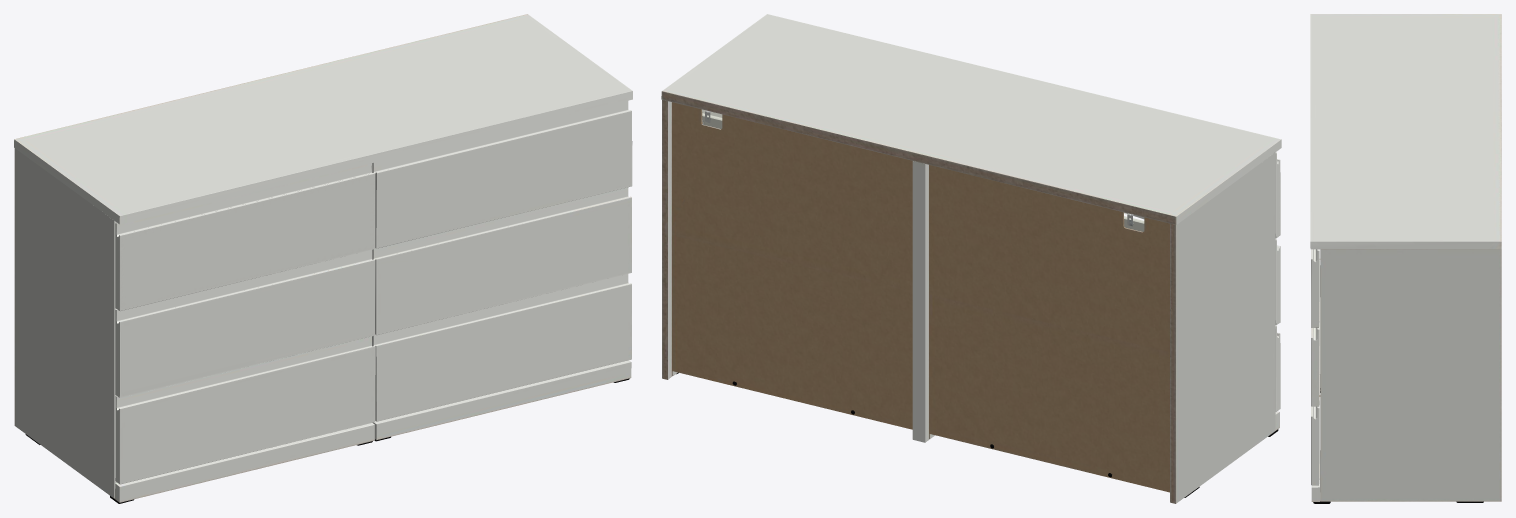
File: storklinta_komoda_6_szuflad_70627550.glb
The picture shows the model from 3 angles, left to right: view 1: azimuth 30°, elevation 25°; view 2: azimuth 150°, elevation 25°; view 3: azimuth 270°, elevation 25°; orthographic projection. The views are drawn at different scales.
Visible parts, largest first — view 1: storklinta_komoda_6_szuflad_70627550; view 2: storklinta_komoda_6_szuflad_70627550; view 3: storklinta_komoda_6_szuflad_70627550.
Boxes of the visible parts, x1,y1,x2,y2 form: storklinta_komoda_6_szuflad_70627550: [14, 14, 632, 503]; storklinta_komoda_6_szuflad_70627550: [661, 14, 1281, 503]; storklinta_komoda_6_szuflad_70627550: [1310, 14, 1501, 503].
Size of the model in its own units: 1.4 by 0.7525 by 0.4962.
1 material, 1 textured.
